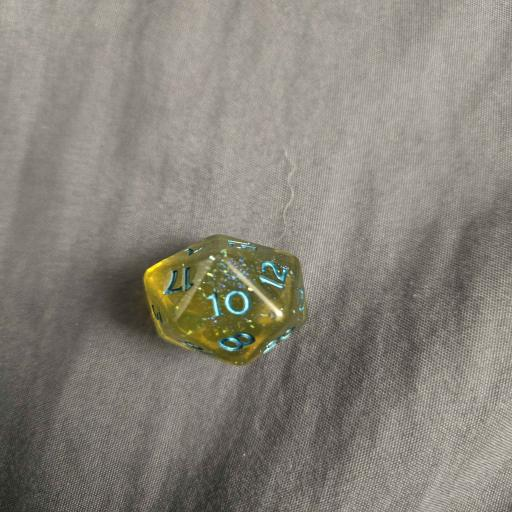twenty sided dice: (143, 234, 308, 366)
